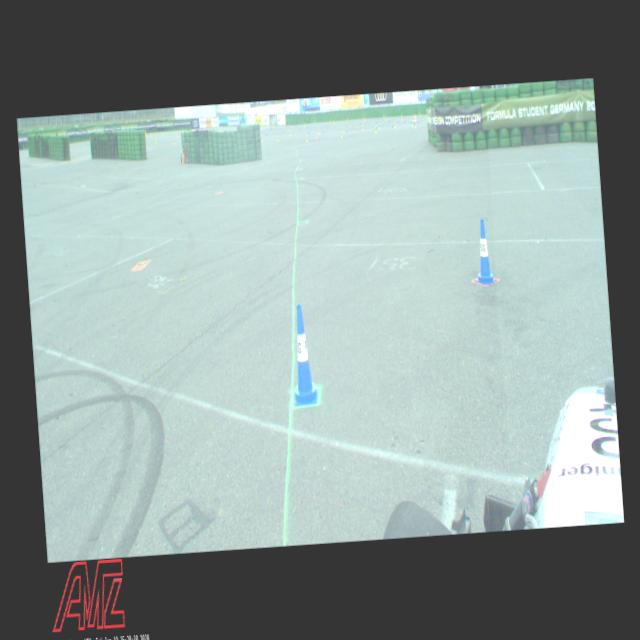blue_cone: (287, 303, 318, 405), (470, 218, 496, 285)
